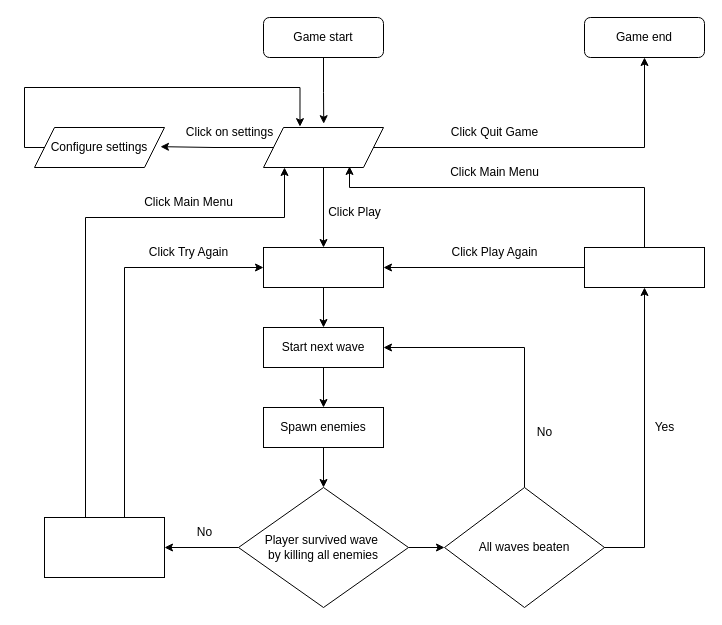
This 722x625 diagram has some shape labels left out. The box of each missing label's shape, as (x1, y1, x2, y2) in pixels:
Begin new game: (262, 246, 384, 288)
Game over screen: (44, 516, 164, 578)
Main Menu: (262, 126, 384, 168)
Win screen: (584, 246, 704, 288)
